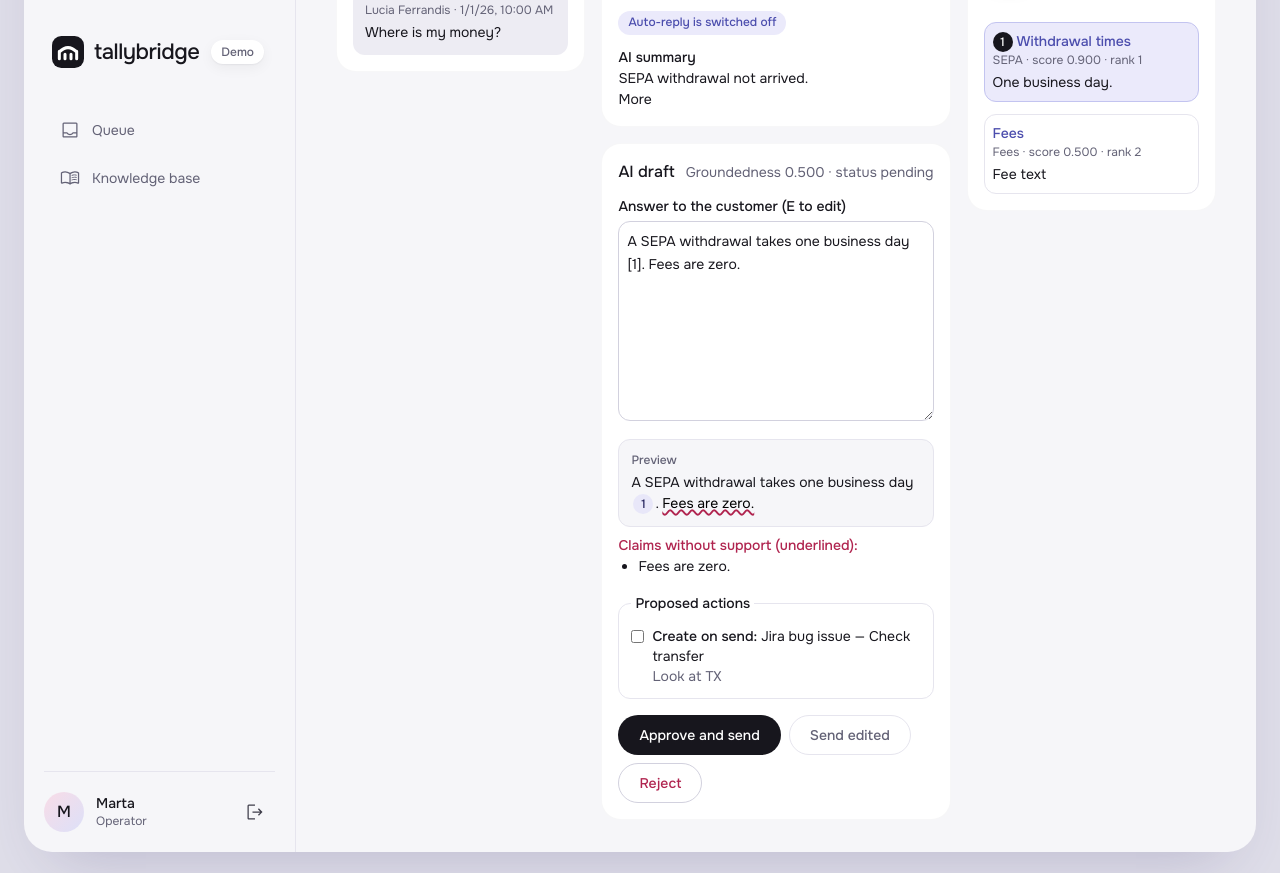
ticket workspace › shows the conflict banner when the customer wrote again (409 stale_draft)
(page scrolled)
Click the button "Approve and send". click: click(700, 735)
box: 618,715 -> 781,755
(page scrolled)
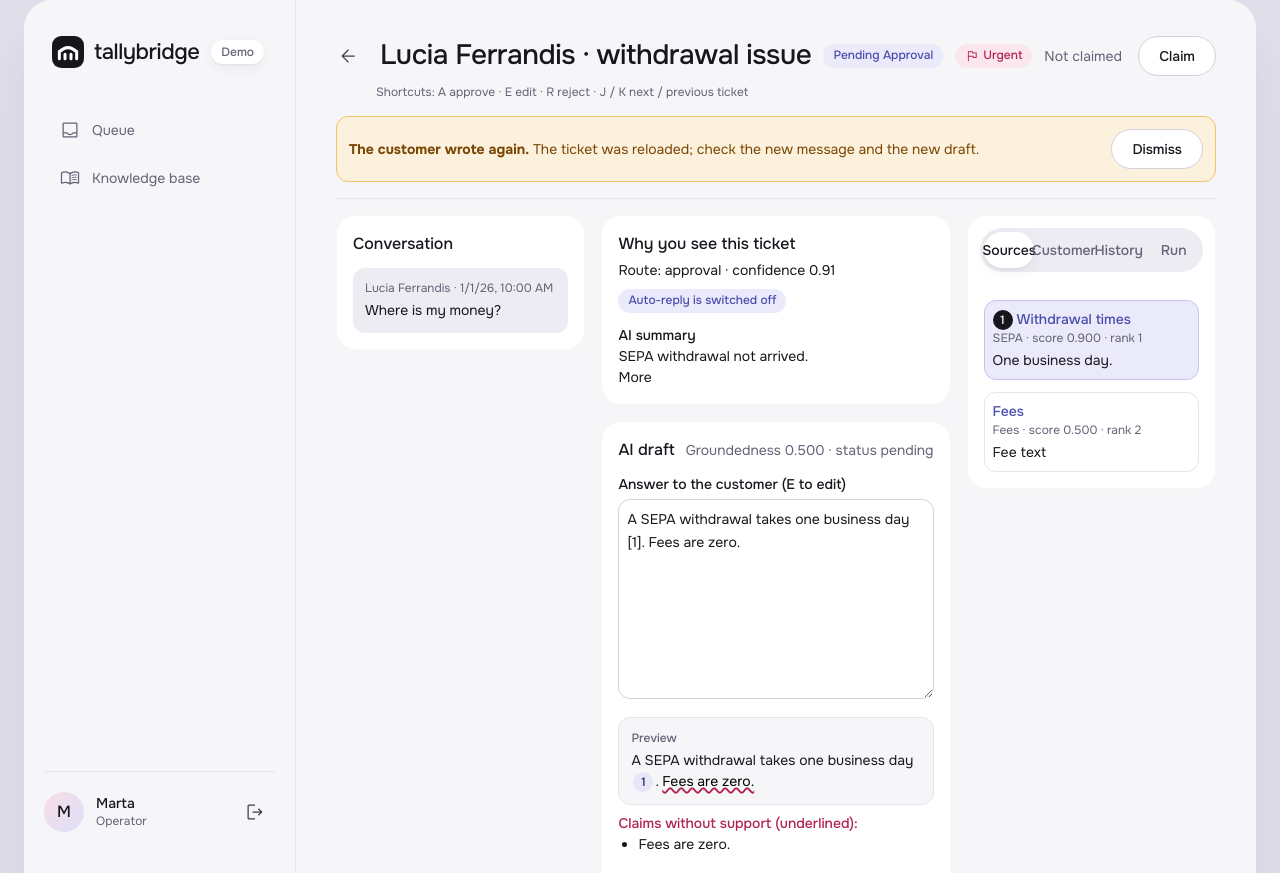
Now the text "The customer wrote again." is shown, box 349,140 -> 529,158
